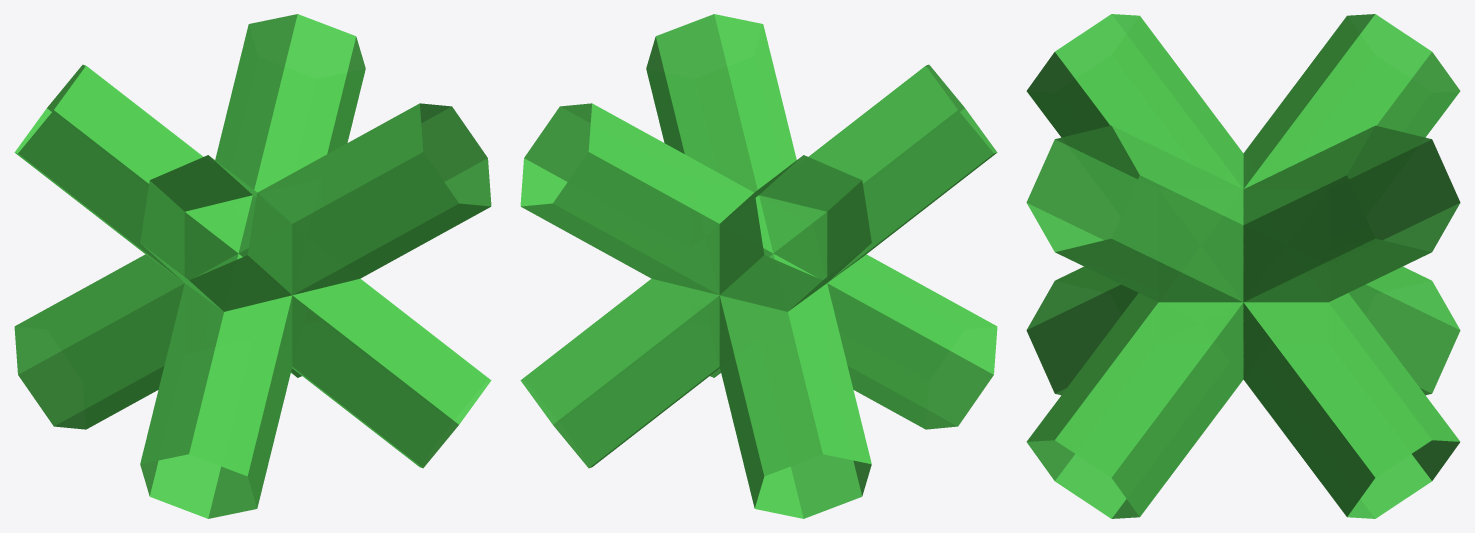
Rendered from Octahemioctacron.obj.
3 views of the same model, side by side, from view 1: azimuth 30°, elevation 25°; view 2: azimuth 150°, elevation 25°; view 3: azimuth 270°, elevation 25° (orthographic). The views are drawn at different scales.
Size of the model in its own units: 6.25 by 6.25 by 6.25.
